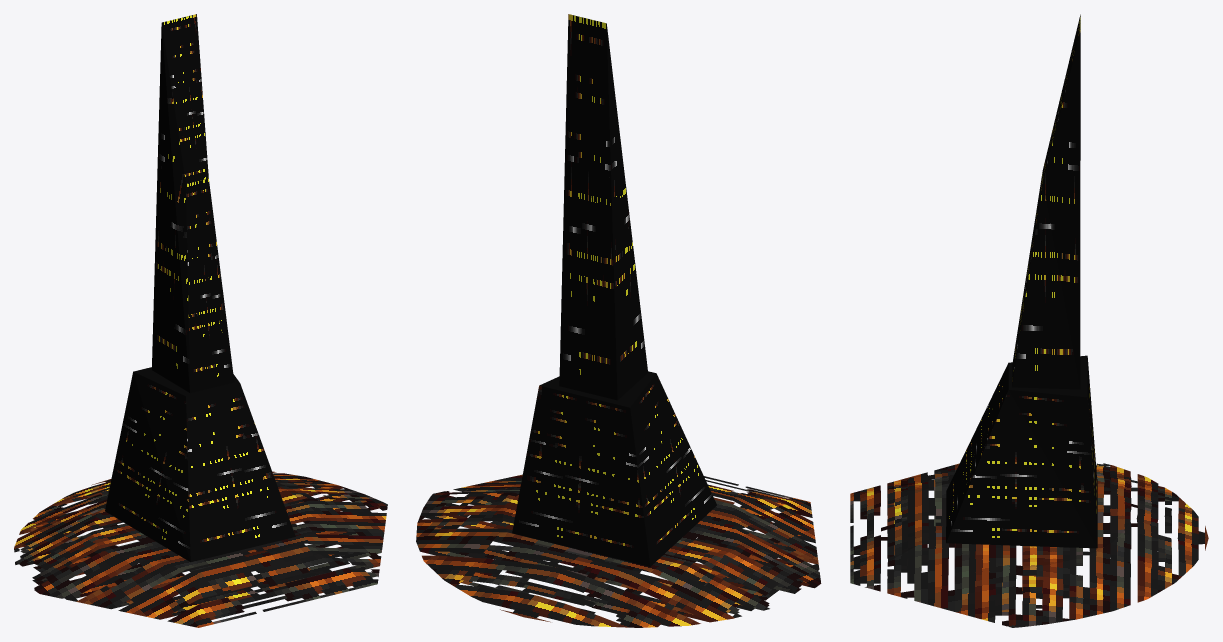
File: bridg1.obj
3 renders of one model, left to right at view 1: azimuth 30°, elevation 25°; view 2: azimuth 150°, elevation 25°; view 3: azimuth 270°, elevation 25°, orthographic. The views are drawn at different scales.
Bounding box in the file's own units: 49.08 × 66.06 × 41.48.
Materials: 3 (2 with a texture image).
